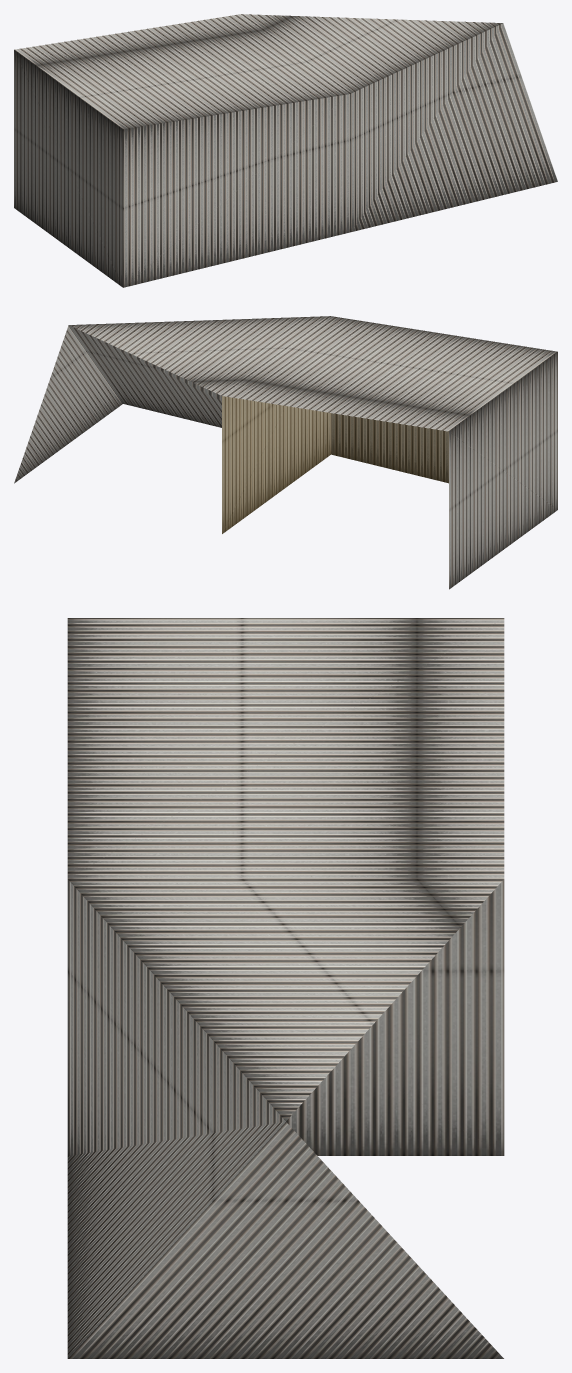
The model's file is ChimNirSmallHangars_LOD1.gltf.
3 views of the same model, one above another, from view 1: azimuth 30°, elevation 25°; view 2: azimuth 150°, elevation 25°; view 3: azimuth 270°, elevation 25° (orthographic). The views are drawn at different scales.
Parts seen in each view (by area): view 1: node2; view 2: node2; view 3: node2.
Part boxes in pixels (x1=…): node2: x1=14, y1=14, x2=557, y2=287; node2: x1=14, y1=316, x2=557, y2=589; node2: x1=67, y1=618, x2=504, y2=1358.
Size of the model in its own units: 11.5 by 4 by 5.
